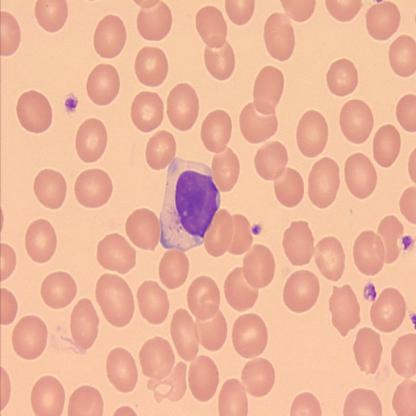Atypical lymphocyte: (158, 154, 223, 253)
